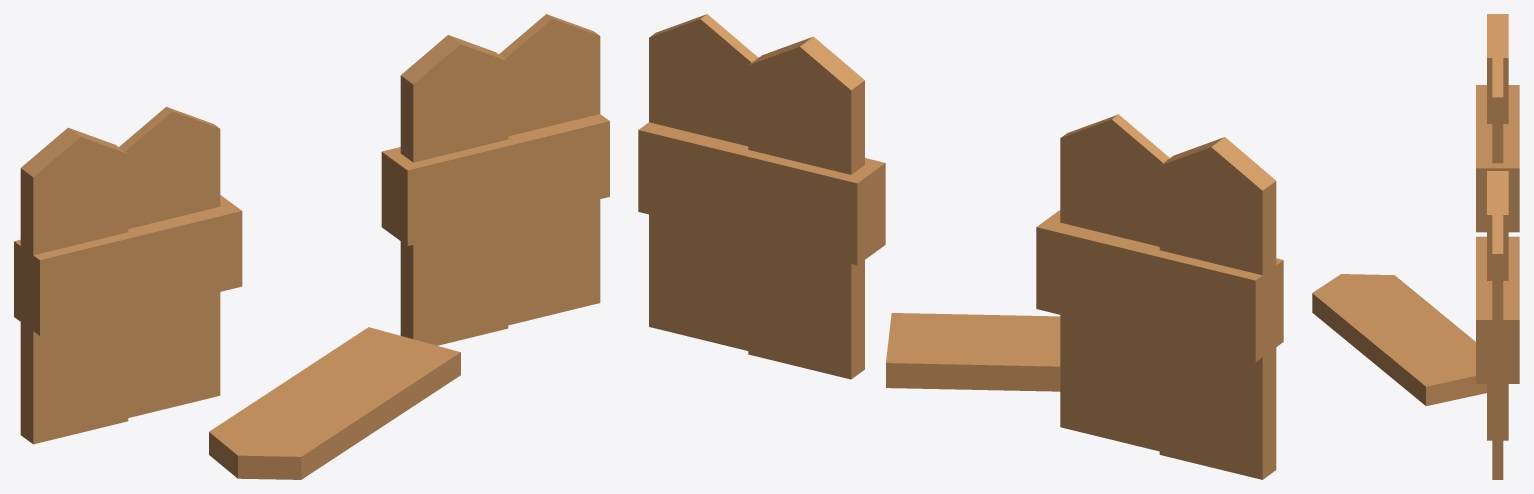
The model's file is fenceBroken.dae.
The picture shows the model from 3 angles, left to right: view 1: azimuth 30°, elevation 25°; view 2: azimuth 150°, elevation 25°; view 3: azimuth 270°, elevation 25°; orthographic projection. The views are drawn at different scales.
Visible parts, largest first — view 1: fenceBroken; view 2: fenceBroken; view 3: fenceBroken.
Boxes of the visible parts, x1,y1,x2,y2 form: fenceBroken: [14, 14, 609, 479]; fenceBroken: [638, 14, 1283, 479]; fenceBroken: [1312, 14, 1519, 479].
Size of the model in its own units: 1 by 0.4961 by 0.3729.
